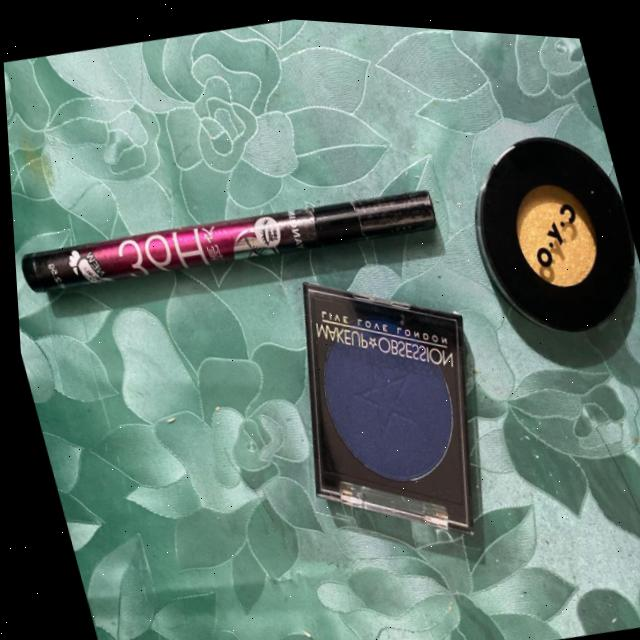concealer: (438, 99, 640, 354)
eye shade: (246, 230, 515, 576)
mascara: (6, 129, 453, 342)
